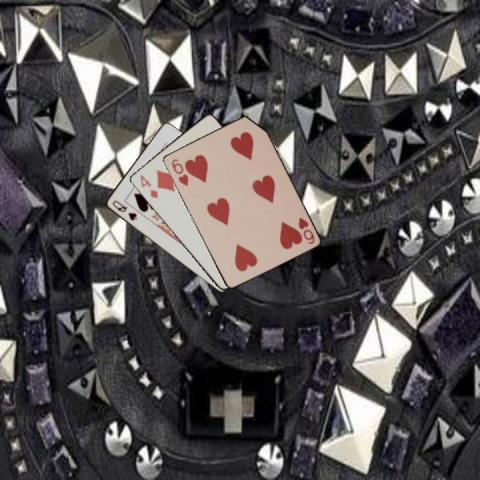4d: (137, 171, 159, 200)
6h: (168, 156, 189, 188), (295, 215, 316, 245)
Qs: (109, 197, 138, 222)
